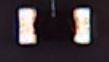COMP: (10, 5, 100, 50)
STAN: (45, 1, 58, 20)
